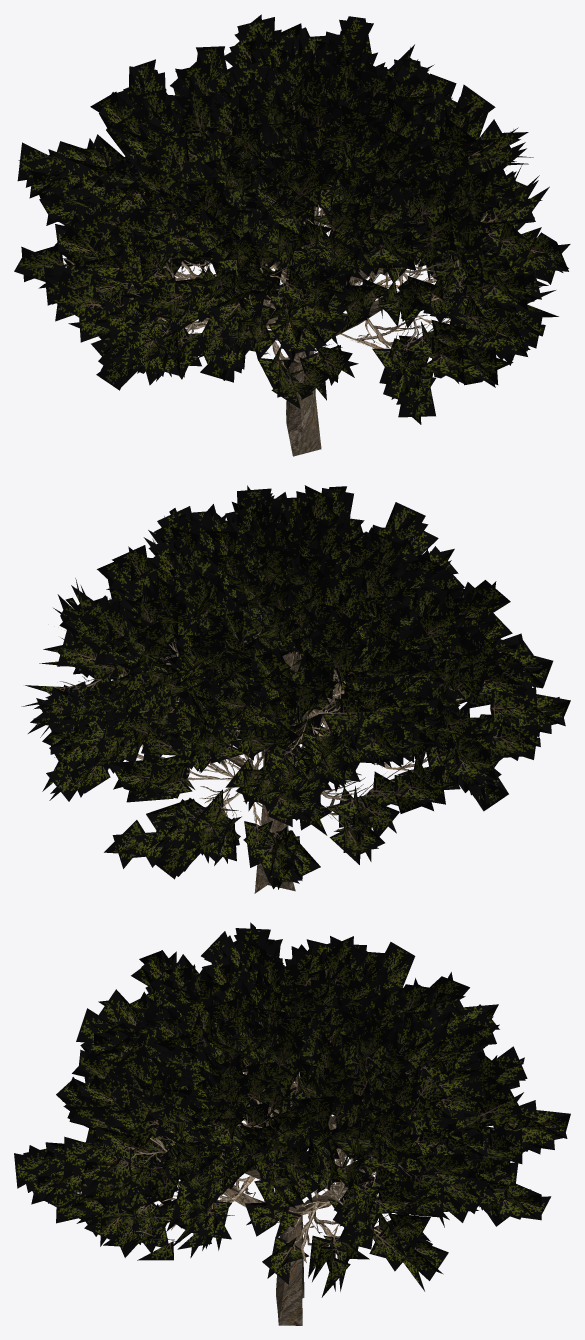
The model's file is leaf1.glb.
The picture shows the model from 3 angles, top to bottom: view 1: azimuth 30°, elevation 25°; view 2: azimuth 150°, elevation 25°; view 3: azimuth 270°, elevation 25°; orthographic projection. The views are drawn at different scales.
Visible parts, largest first — view 1: Model__Leaf, Model__Branch, Model__Bark; view 2: Model__Leaf, Model__Branch, Model__Bark; view 3: Model__Leaf, Model__Branch, Model__Bark.
Part boxes in pixels (box(x1,y1,x2,y2)): Model__Leaf: box(14, 14, 570, 424); Model__Branch: box(43, 107, 525, 381); Model__Bark: box(263, 206, 384, 456); Model__Leaf: box(21, 485, 570, 889); Model__Branch: box(33, 580, 497, 848); Model__Bark: box(119, 640, 344, 893); Model__Leaf: box(14, 922, 570, 1297); Model__Branch: box(79, 976, 511, 1262); Model__Bark: box(223, 1072, 365, 1325).
Size of the model in its own units: 6.45 by 5.5 by 7.27.
Materials: 3 (3 with a texture image).
